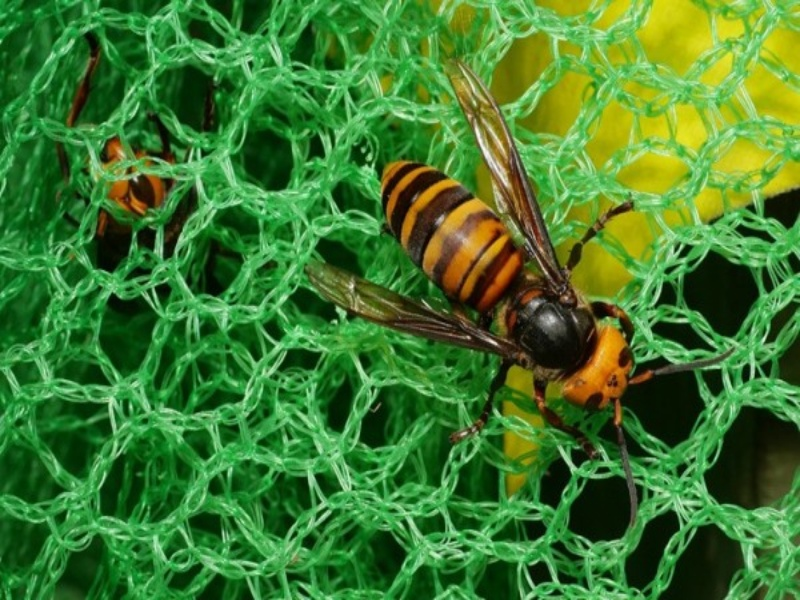asian_giant_hornet: (375, 153, 633, 464), (57, 123, 204, 278)
